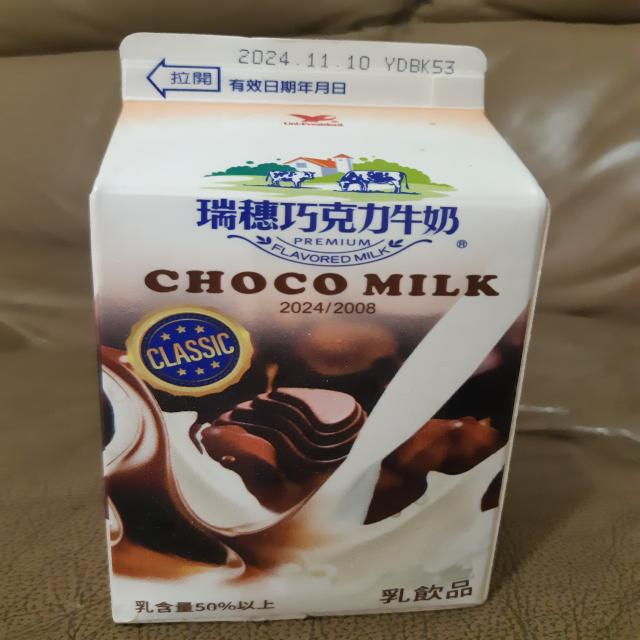RuiSui_ChocoMilk: (82, 29, 557, 632)
